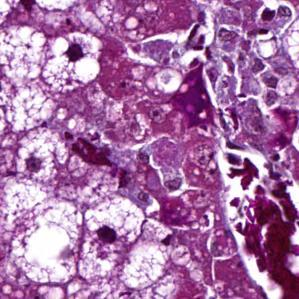ballooning: (79, 197, 144, 283), (40, 28, 104, 93), (14, 124, 71, 186)
